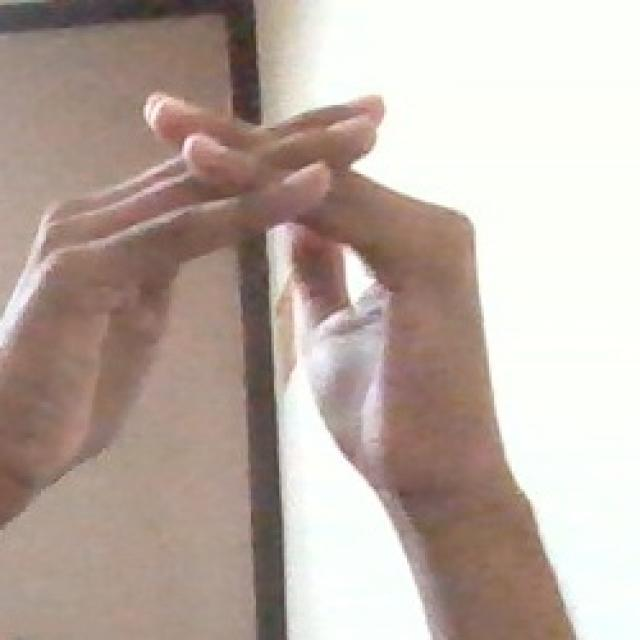Alphabet-W: (18, 72, 504, 504)
